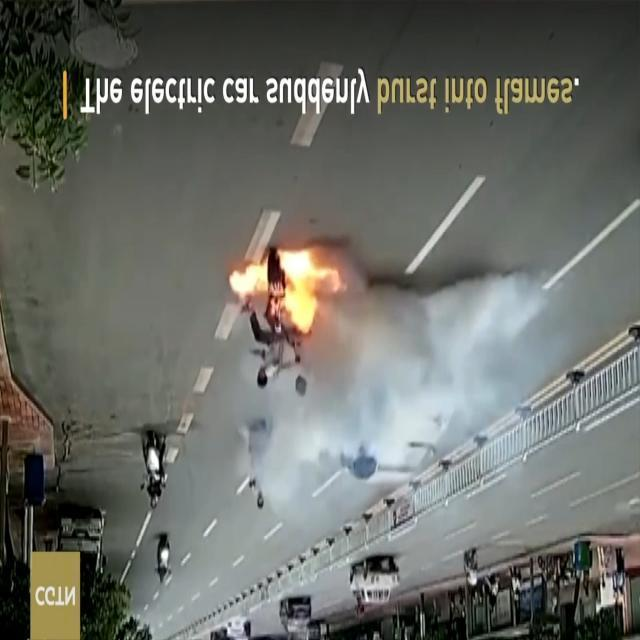fire: (229, 242, 339, 346)
